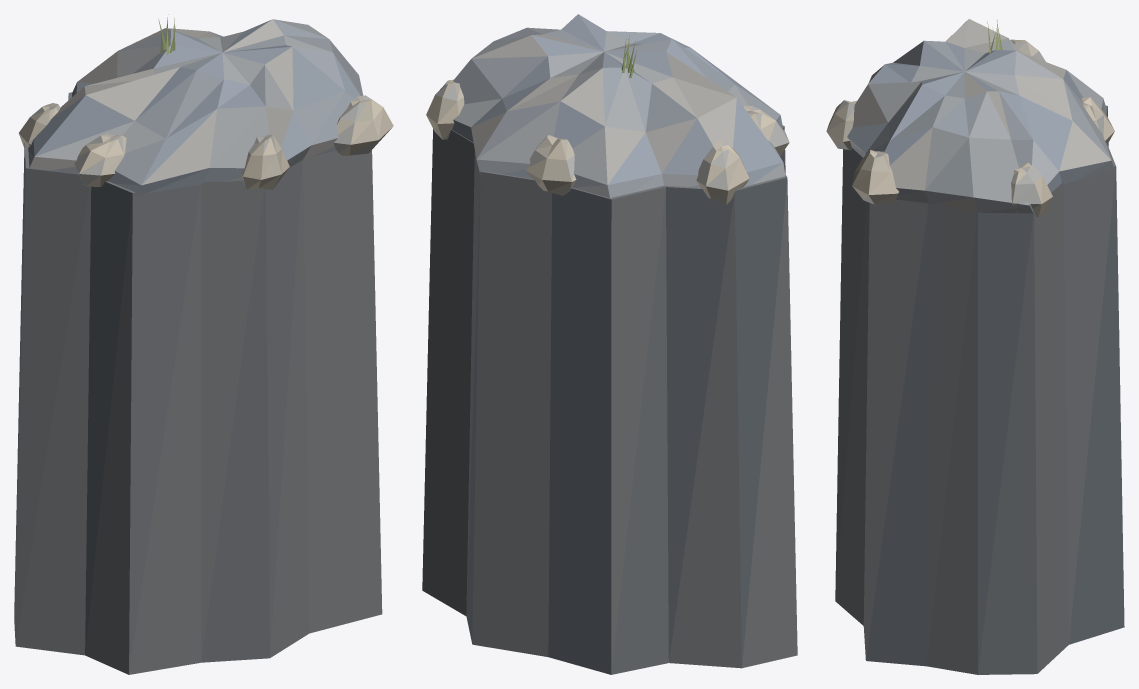
The model's file is foreground_rock.glb.
The picture shows the model from 3 angles, left to right: view 1: azimuth 30°, elevation 25°; view 2: azimuth 150°, elevation 25°; view 3: azimuth 270°, elevation 25°; orthographic projection. The views are drawn at different scales.
Parts seen in each view (by area): view 1: foreground_rock_rockroot, foreground_rock_shoulder, foreground_rock_wetshore_05, foreground_rock_wetshore_03, foreground_rock_wetshore_04, foreground_rock_wetshore_02; view 2: foreground_rock_rockroot, foreground_rock_shoulder, foreground_rock_wetshore_02, foreground_rock_wetshore_01, foreground_rock_wetshore_00, foreground_rock_wetshore_03; view 3: foreground_rock_rockroot, foreground_rock_shoulder, foreground_rock_wetshore_05, foreground_rock_wetshore_00, foreground_rock_wetshore_04, foreground_rock_wetshore_01.
Part boxes in pixels (<box>): foreground_rock_rockroot: <box>14,92,382,674</box>; foreground_rock_shoulder: <box>28,19,363,196</box>; foreground_rock_wetshore_05: <box>334,95,393,155</box>; foreground_rock_wetshore_03: <box>74,134,126,186</box>; foreground_rock_wetshore_04: <box>241,134,289,189</box>; foreground_rock_wetshore_02: <box>19,103,60,147</box>; foreground_rock_rockroot: <box>422,125,797,674</box>; foreground_rock_shoulder: <box>452,14,785,197</box>; foreground_rock_wetshore_02: <box>696,141,749,204</box>; foreground_rock_wetshore_01: <box>526,135,576,195</box>; foreground_rock_wetshore_00: <box>426,79,464,139</box>; foreground_rock_wetshore_03: <box>743,106,789,155</box>; foreground_rock_rockroot: <box>835,105,1124,674</box>; foreground_rock_shoulder: <box>847,19,1114,213</box>; foreground_rock_wetshore_05: <box>852,150,899,204</box>; foreground_rock_wetshore_00: <box>1011,162,1052,217</box>; foreground_rock_wetshore_04: <box>826,100,856,150</box>; foreground_rock_wetshore_01: <box>1081,97,1114,143</box>.
Size of the model in its own units: 18.18 by 29.66 by 13.95.
